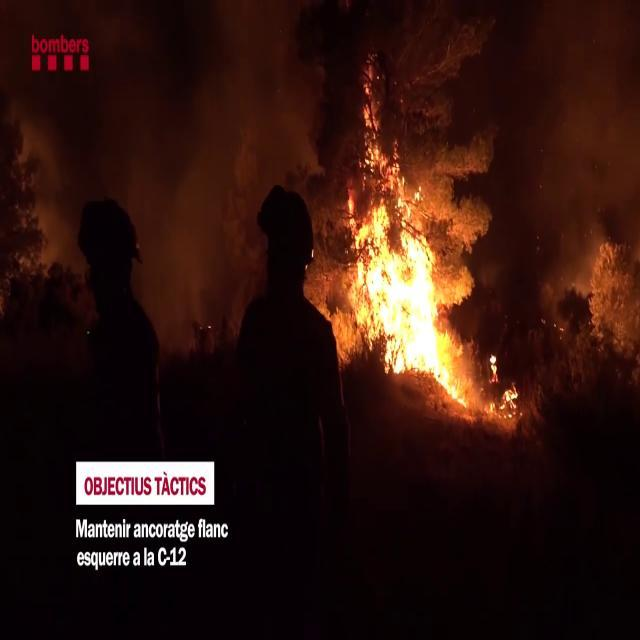Fire: (346, 177, 472, 398), (484, 360, 522, 422)
Smoke: (41, 1, 340, 338), (512, 1, 640, 332)
